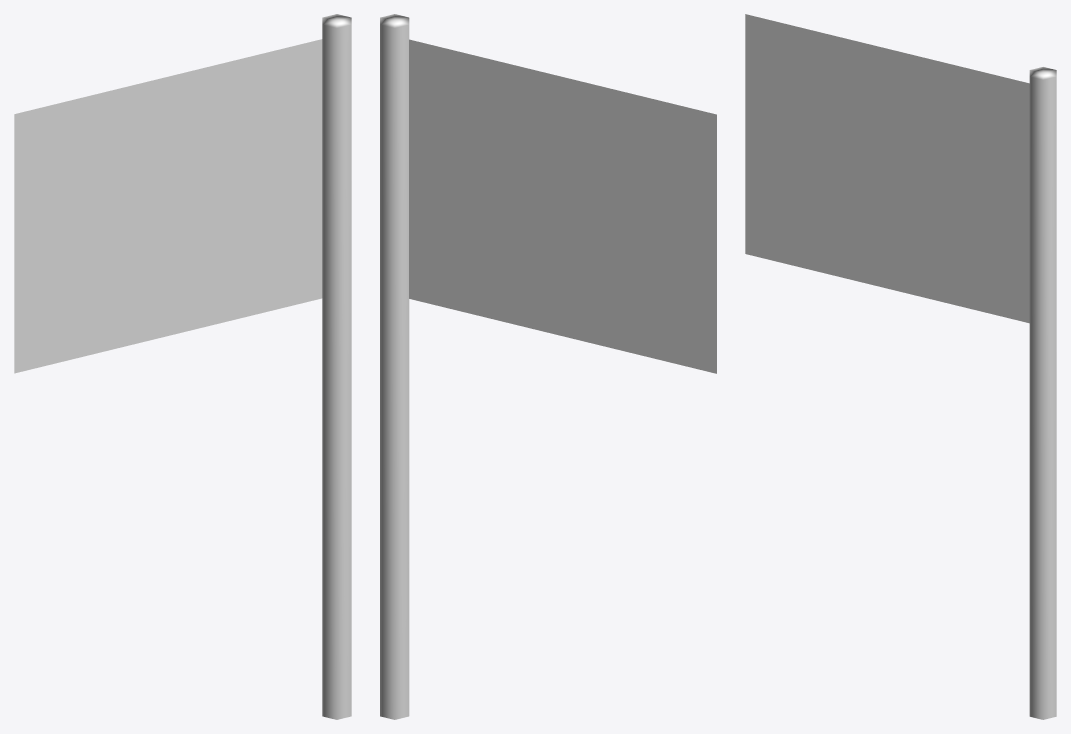
Rendered from flag.fbx.
The picture shows the model from 3 angles, left to right: view 1: azimuth 30°, elevation 25°; view 2: azimuth 150°, elevation 25°; view 3: azimuth 330°, elevation 25°; orthographic projection. The views are drawn at different scales.
Visible parts, largest first — view 1: flag; view 2: flag; view 3: flag.
Boxes of the visible parts, x1,y1,x2,y2 form: flag: (14,14,351,719); flag: (380,14,716,719); flag: (745,14,1056,719).
Bounding box in the file's own units: 2.29 × 4.5 × 0.1732.
Materials: 1 (1 with a texture image).
